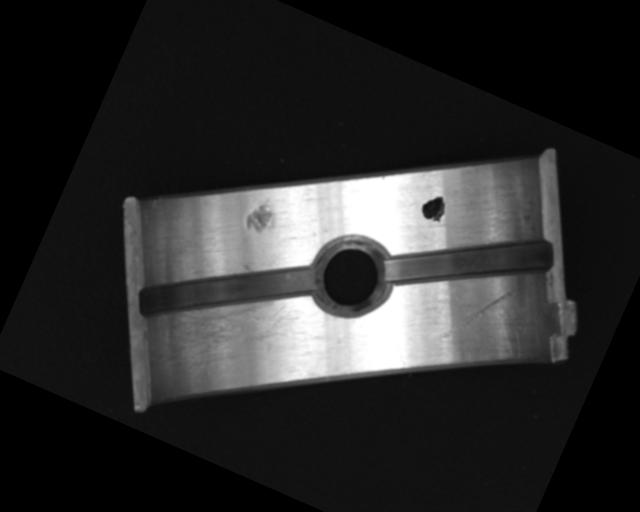blot: (417, 190, 451, 225)
bruise: (241, 192, 281, 238)
gap: (132, 207, 321, 374), (379, 184, 559, 337)
hole: (302, 225, 400, 330)
nick: (436, 268, 514, 361)
scratch: (148, 262, 301, 403)
